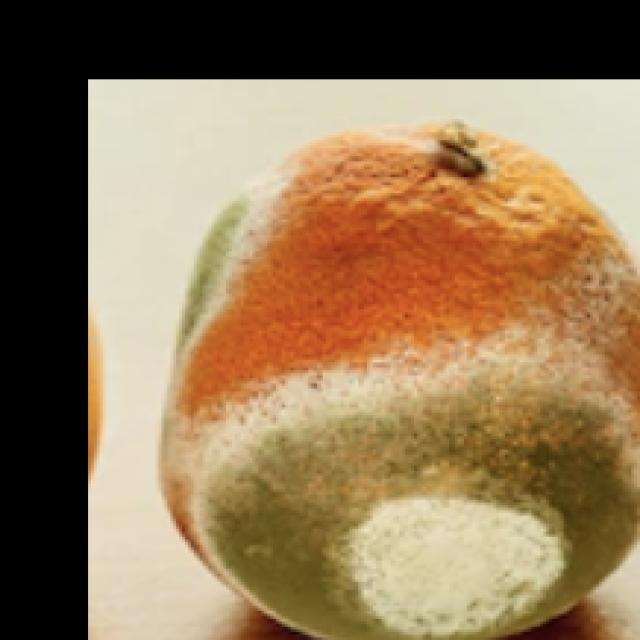sangat-busuk: (160, 121, 639, 639)
